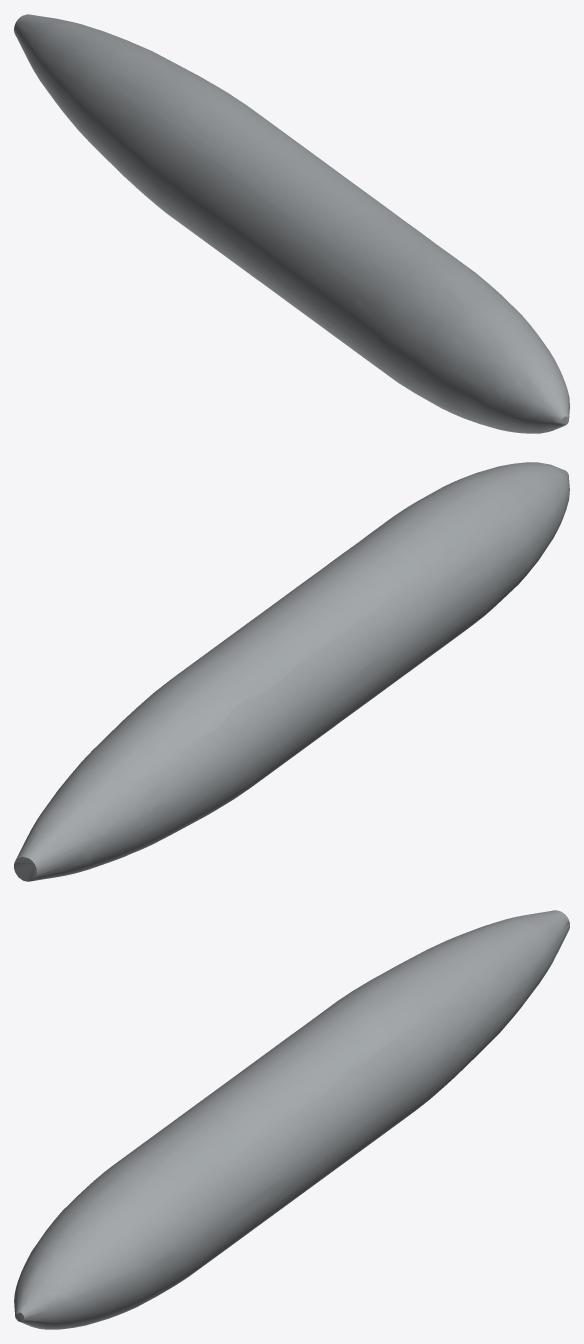
The model's file is ptb800.glb.
3 renders of one model, top to bottom at view 1: azimuth 30°, elevation 25°; view 2: azimuth 150°, elevation 25°; view 3: azimuth 330°, elevation 25°, orthographic.
Parts seen in each view (by area): view 1: airframe; view 2: airframe; view 3: airframe.
Boxes of the visible parts, x1,y1,x2,y2 form: airframe: [14, 14, 569, 433]; airframe: [14, 462, 569, 881]; airframe: [14, 910, 569, 1329].
Size of the model in its own units: 0.5769 by 0.5779 by 4.61.
Materials: 1 (1 with a texture image).
